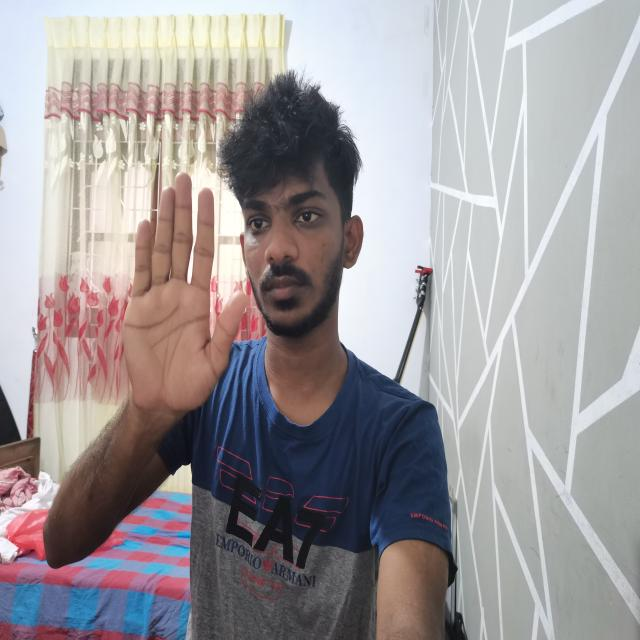Hello: (118, 165, 252, 422)
